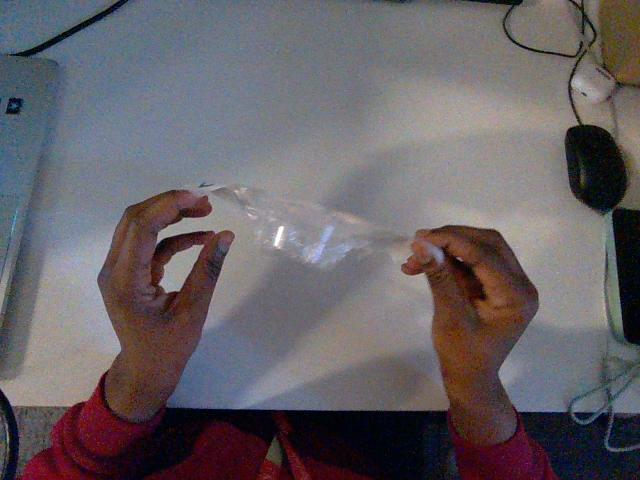gallipot: (193, 185, 411, 268)
